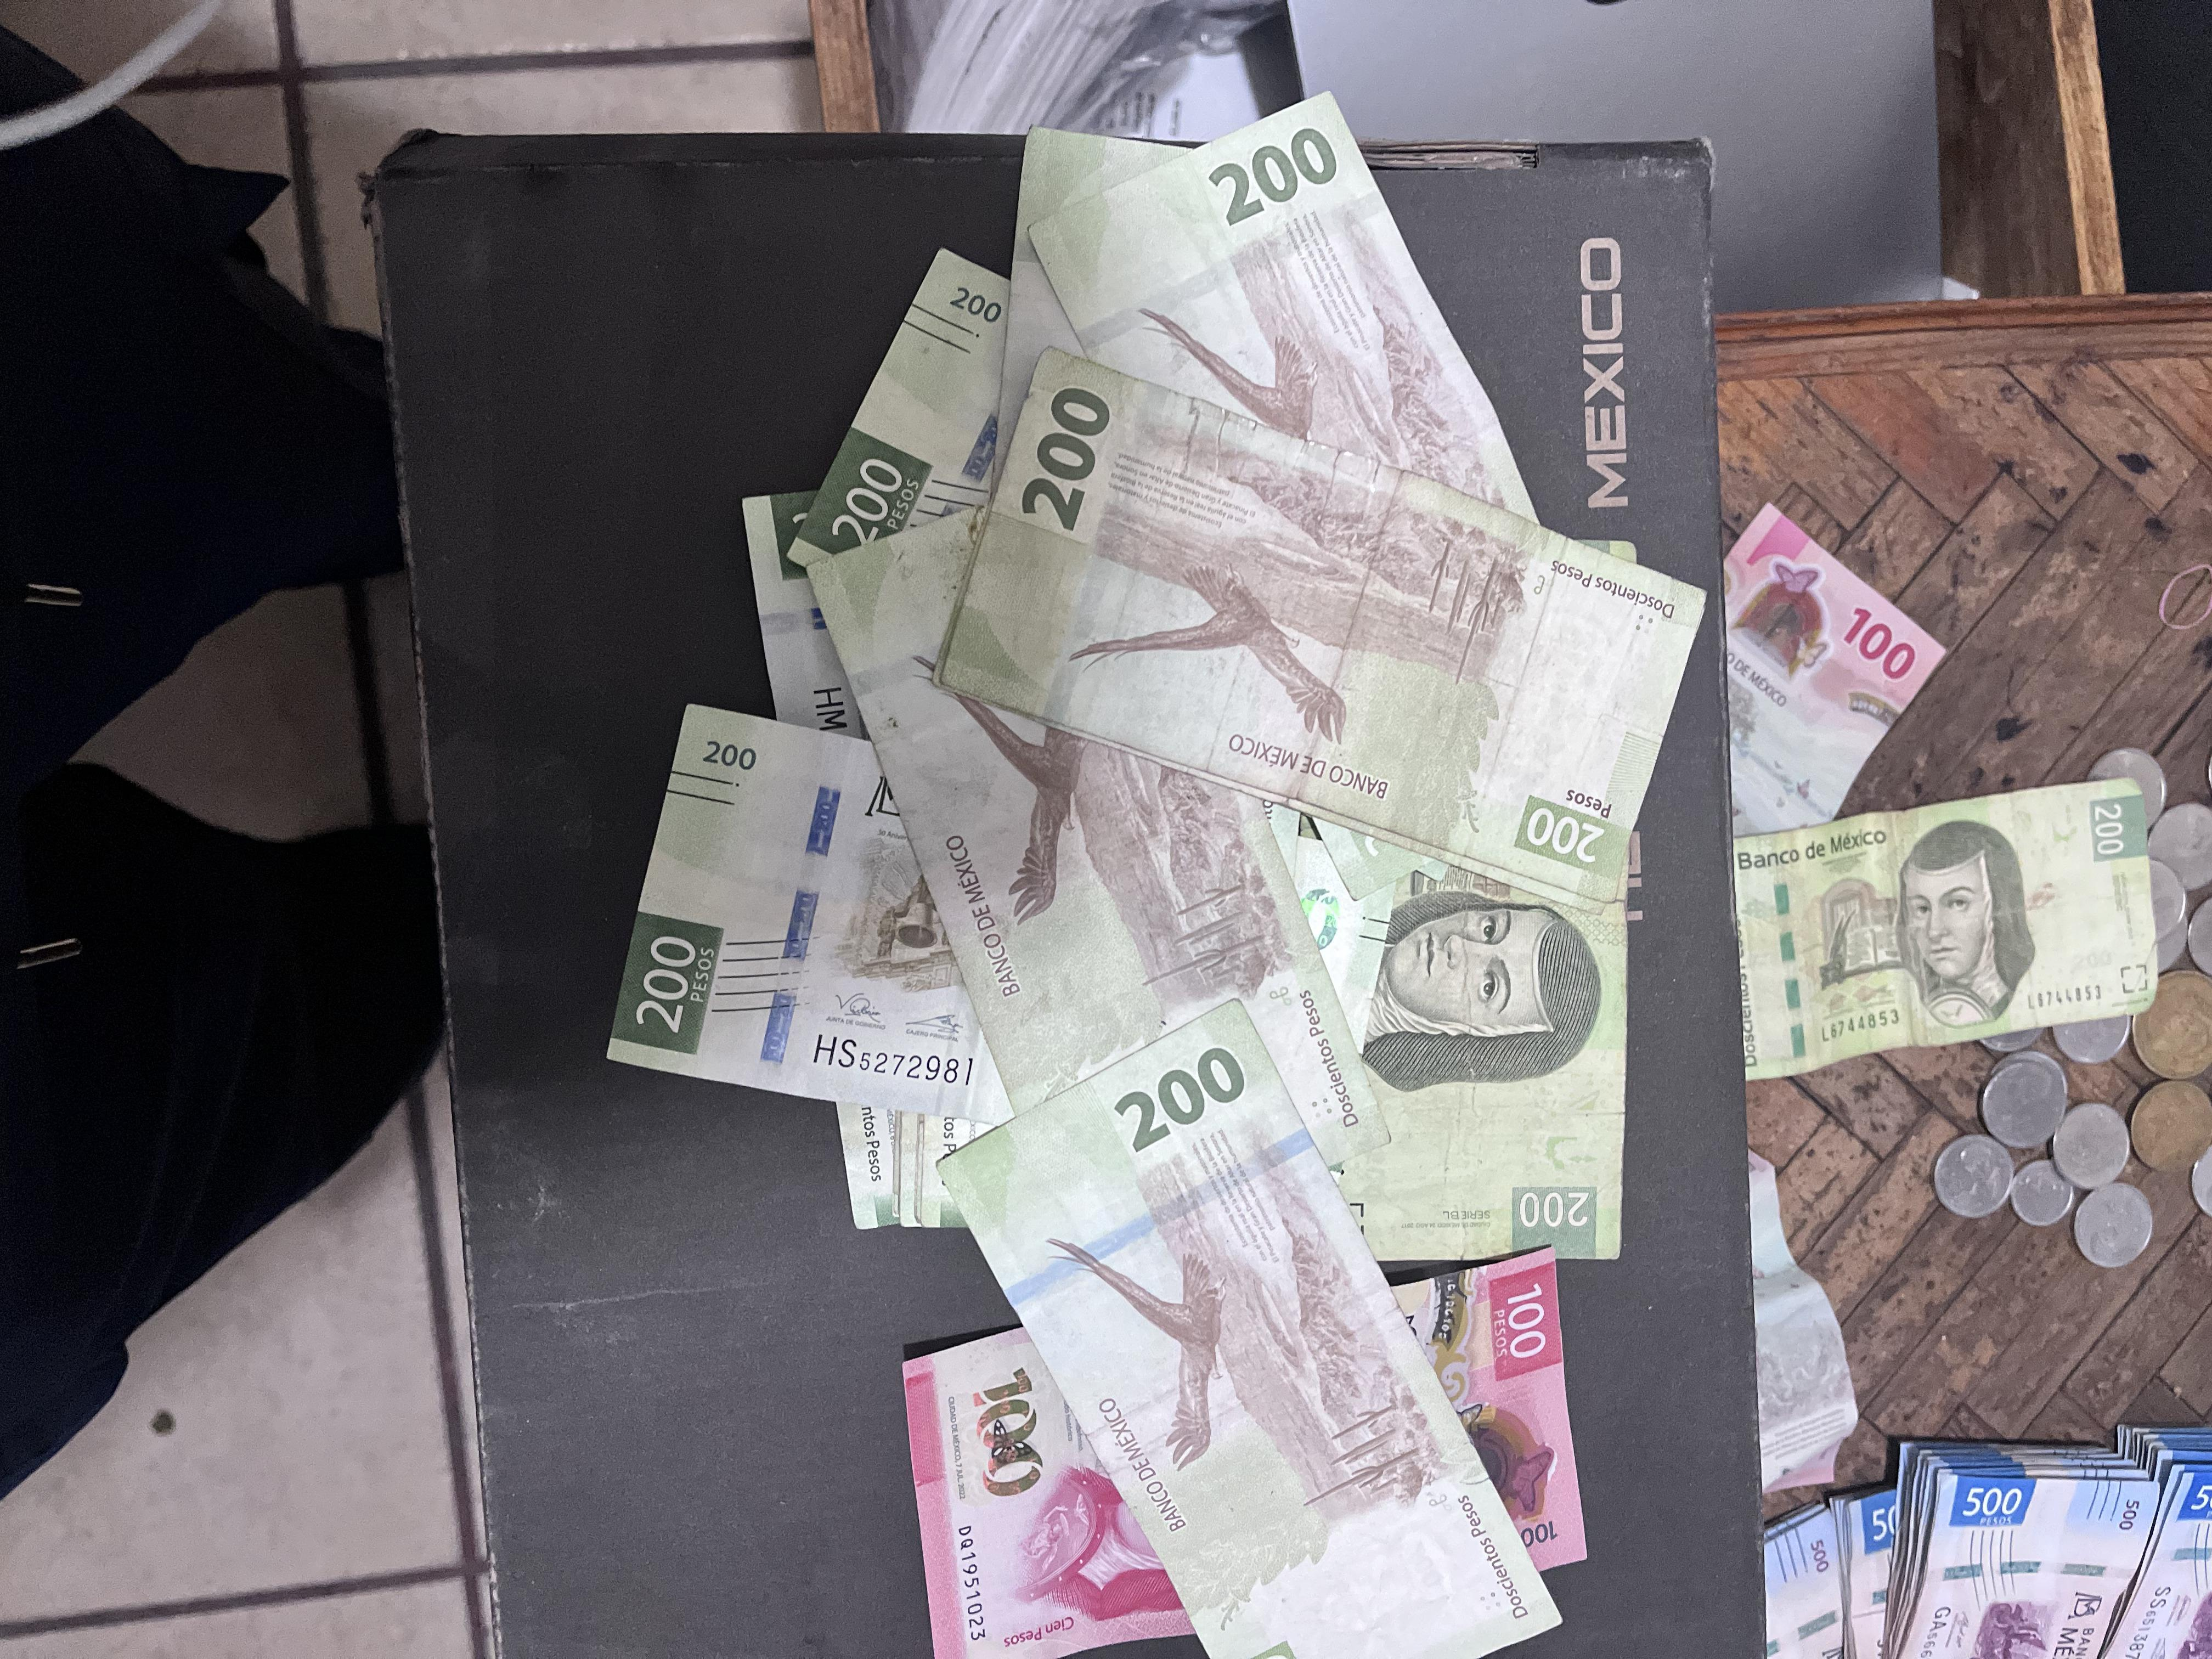100: (867, 1251, 1608, 1659), (1674, 486, 1952, 864)
200: (984, 340, 1707, 922), (942, 1039, 1568, 1659), (529, 657, 1111, 1206), (1001, 75, 1604, 556), (1217, 737, 1660, 1272), (1712, 803, 2191, 1077)
500 nuevo: (1757, 1378, 2212, 1659)
